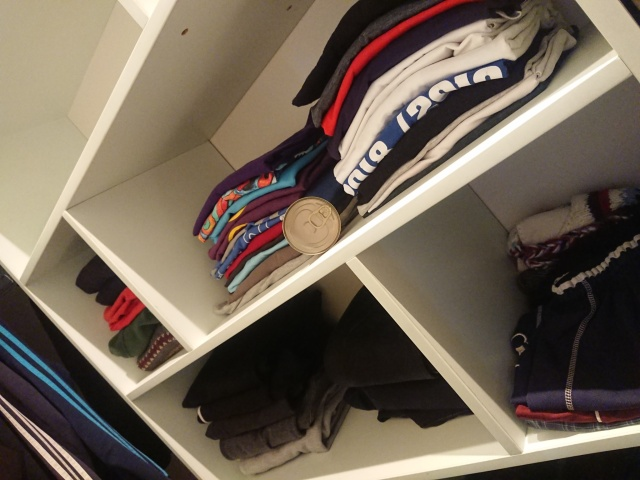Gavrilovic Pork Liver Pate 100g: (279, 193, 342, 256)
